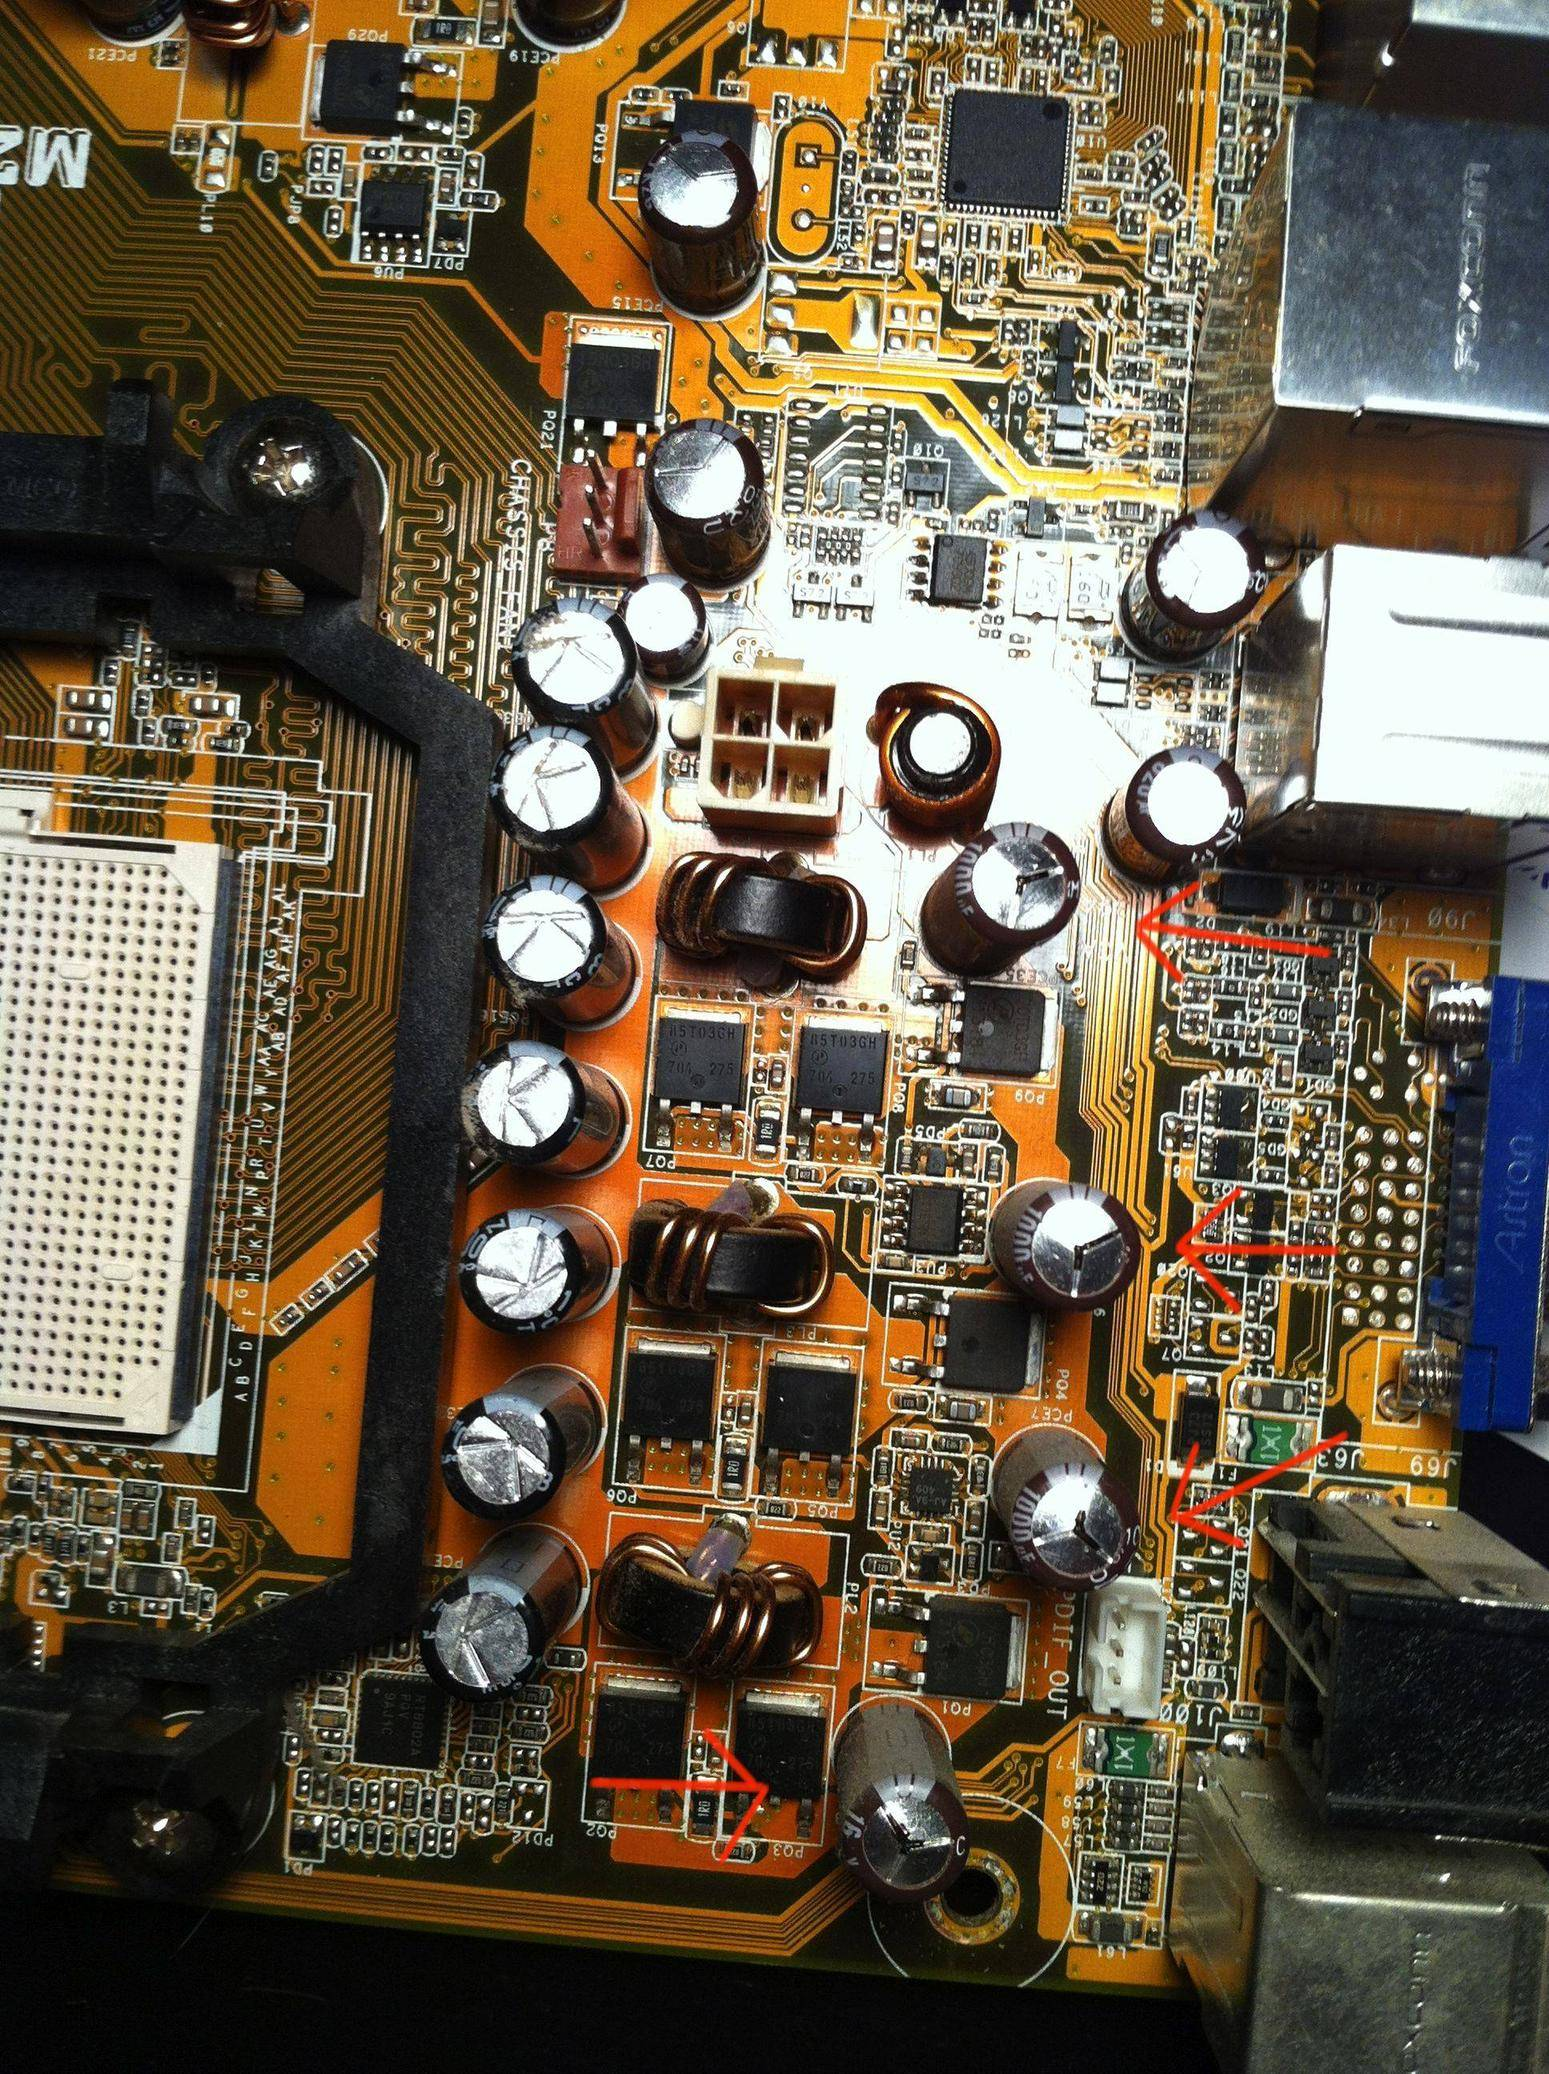capacitor: (615, 112, 801, 338), (426, 1368, 638, 1545), (1085, 716, 1261, 922), (451, 1030, 667, 1197), (599, 416, 828, 573), (407, 1539, 635, 1695), (488, 594, 688, 765), (487, 730, 665, 890), (444, 1200, 636, 1345), (478, 880, 674, 1022), (1123, 503, 1285, 670), (600, 574, 727, 693)
